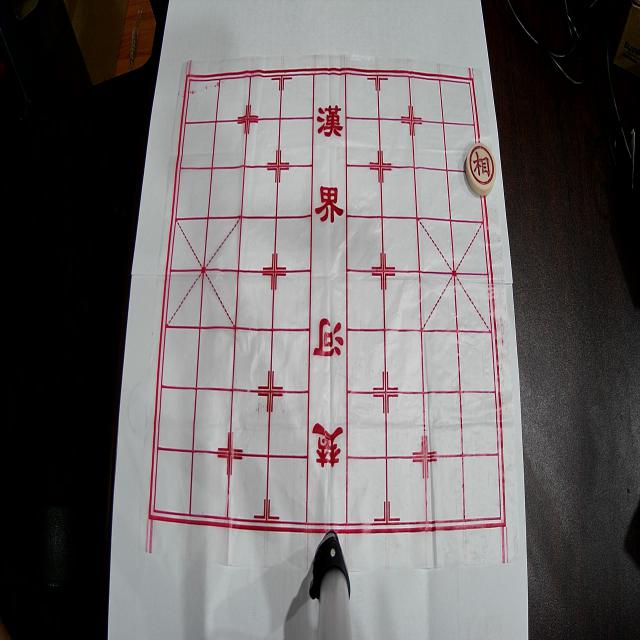red-elephant: (466, 143, 496, 195)
